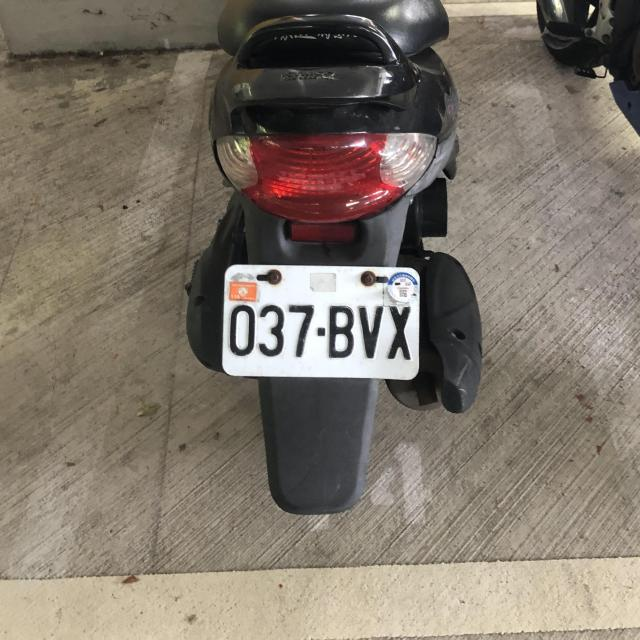W: (219, 258, 423, 384)
